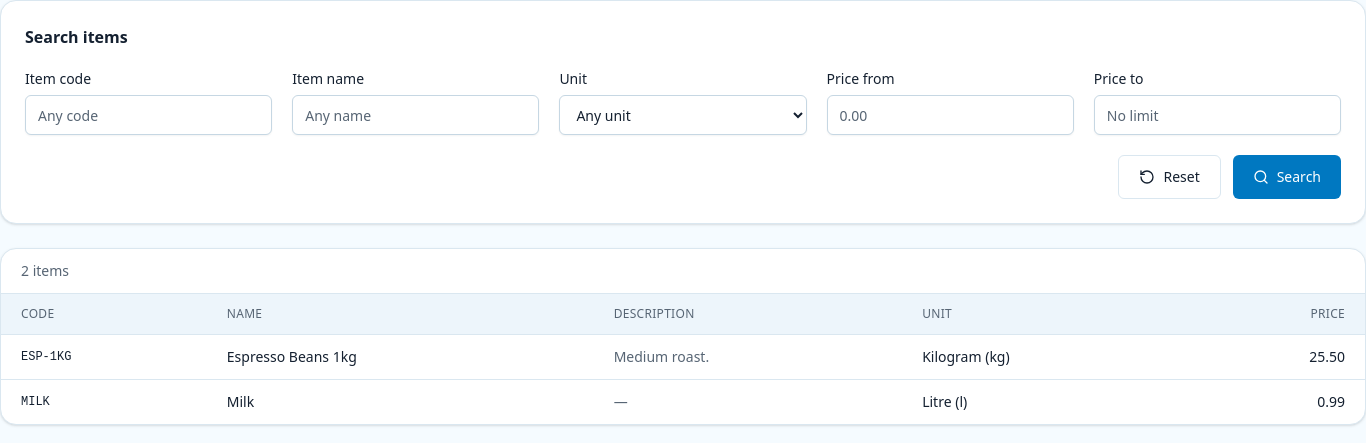
Test case: ItemListPage › sends the filled-in filters to the server and shows what matched
The image size is (1366, 443).
Expected: the text "2 items" is shown, 1,249 -> 1365,294
In the field labelled "Item code": (149, 115) 25,95 -> 272,135, type "esp"
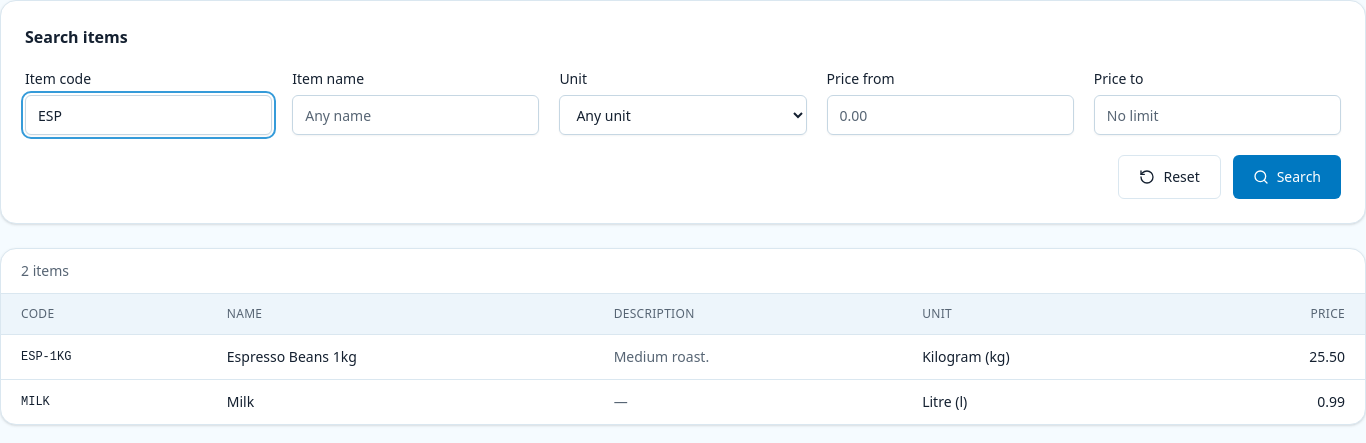
In the field labelled "Item name": (416, 115) 292,95 -> 539,135, type " beans "
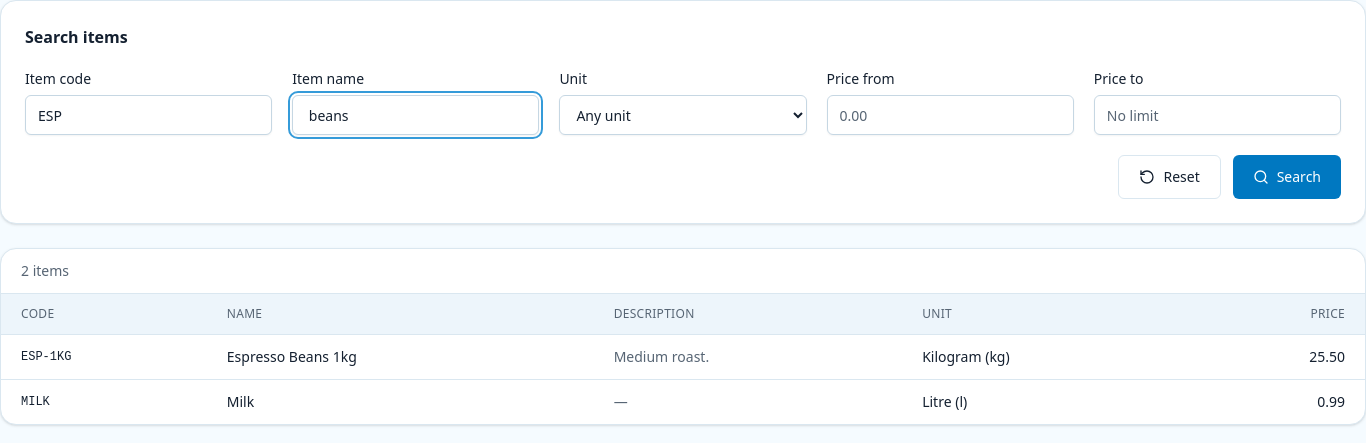
Select "Kilogram (kg)" in the dropdown labelled "Unit": (683, 115) 559,95 -> 807,135
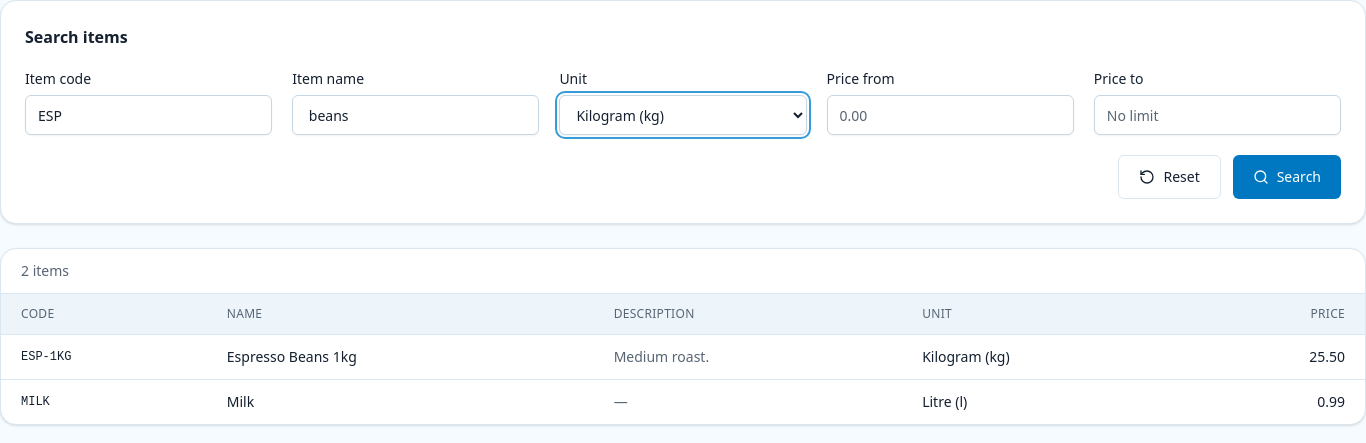
In the field labelled "Price from": (950, 115) 827,95 -> 1074,135, type "10"
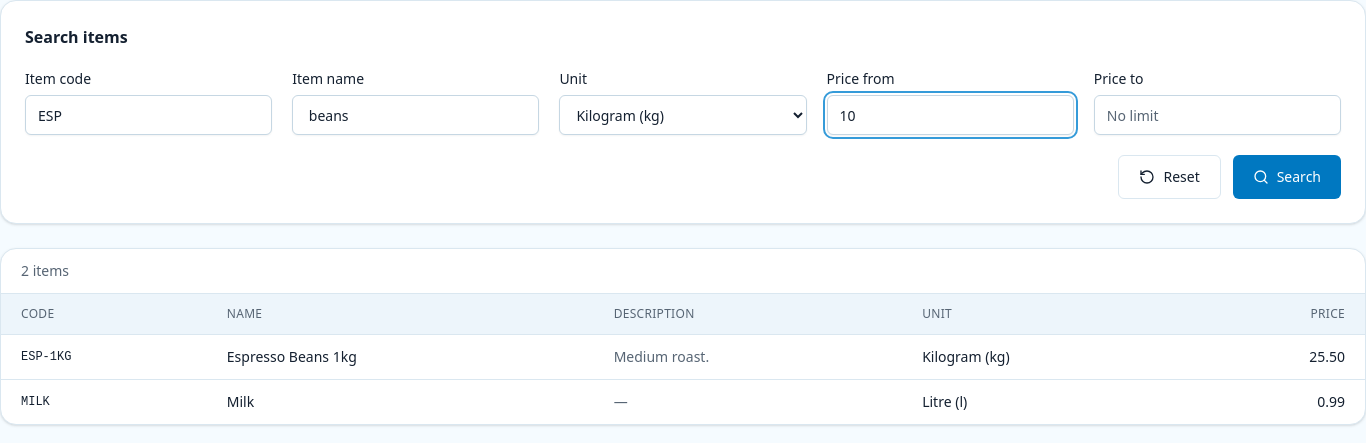
In the field labelled "Price to": (1217, 115) 1094,95 -> 1341,135, type "30.5"
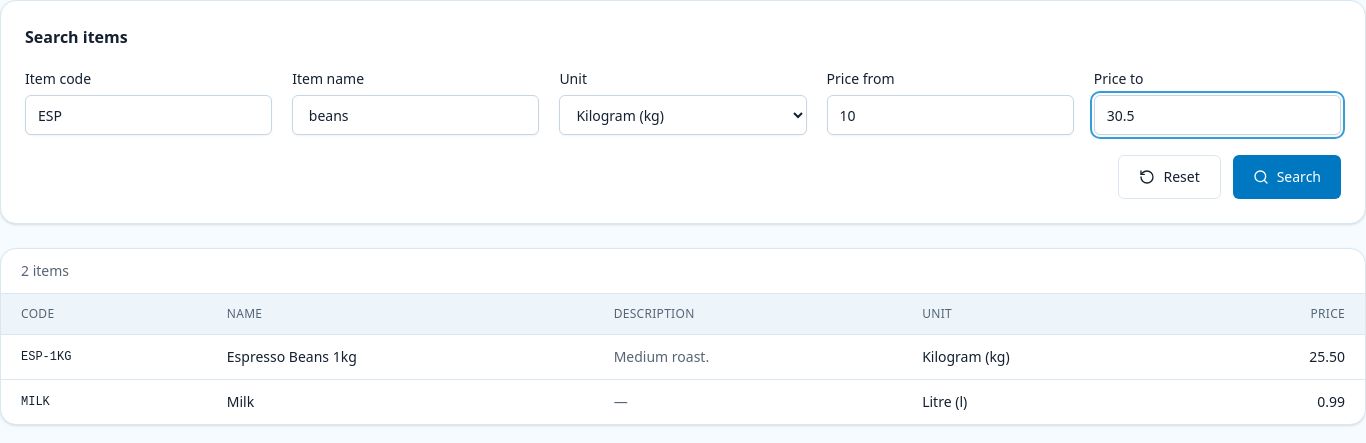
Click the button "Search": (1287, 177) 1233,155 -> 1341,199
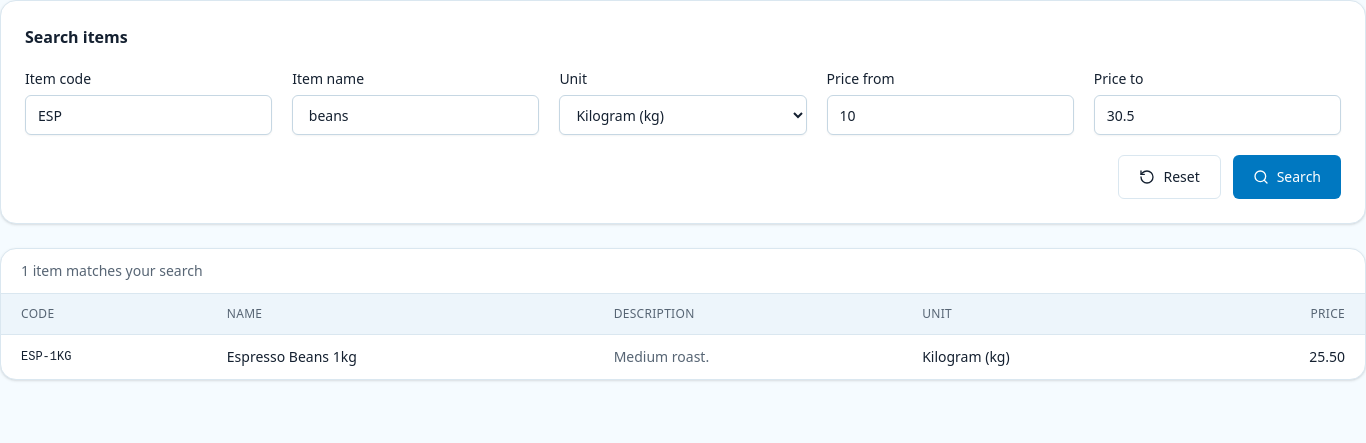
Result: the text "1 item matches your search" is shown at 1,249 -> 1365,294
